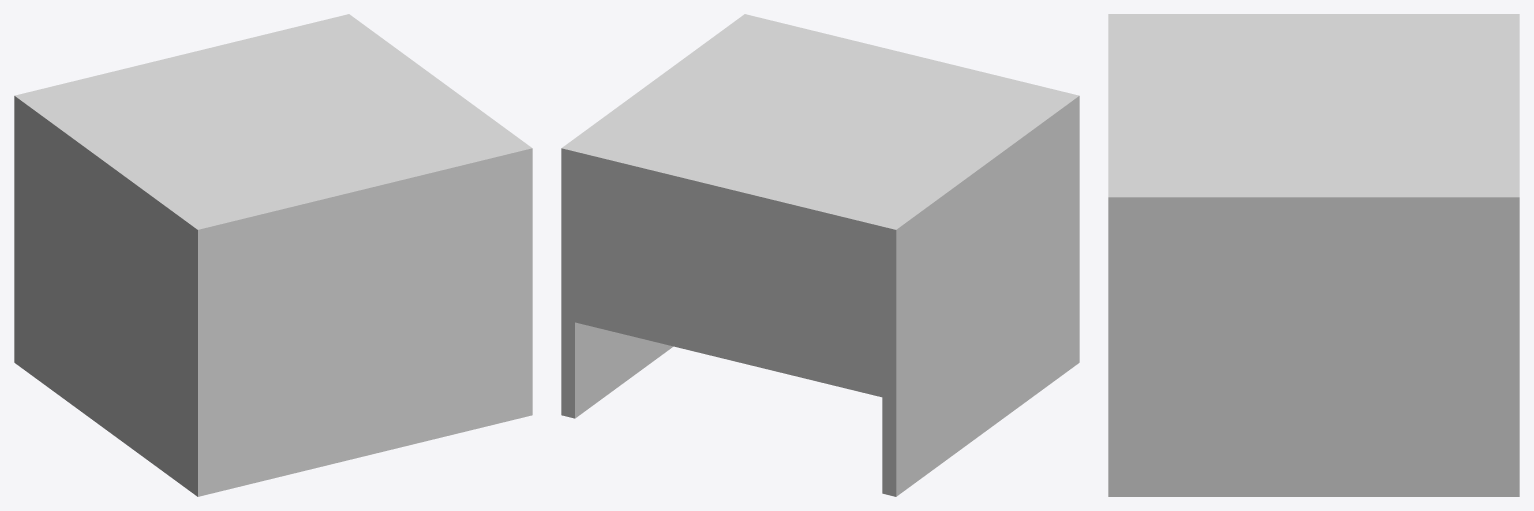
Rendered from Counter_2_B.obj.
The picture shows the model from 3 angles, left to right: view 1: azimuth 30°, elevation 25°; view 2: azimuth 150°, elevation 25°; view 3: azimuth 270°, elevation 25°; orthographic projection. The views are drawn at different scales.
Parts seen in each view (by area): view 1: Counter_2_B; view 2: Counter_2_B; view 3: Counter_2_B.
Boxes of the visible parts, box(x1,y1,x2,y2) form: Counter_2_B: box(14, 14, 532, 496); Counter_2_B: box(561, 14, 1079, 496); Counter_2_B: box(1108, 14, 1519, 496).
Size of the model in its own units: 1 by 0.7623 by 0.949.
